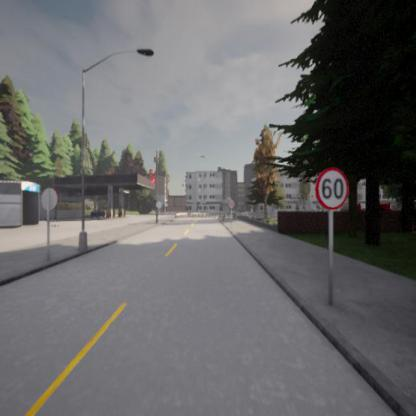traffic_sign_60: (315, 167, 349, 210)
